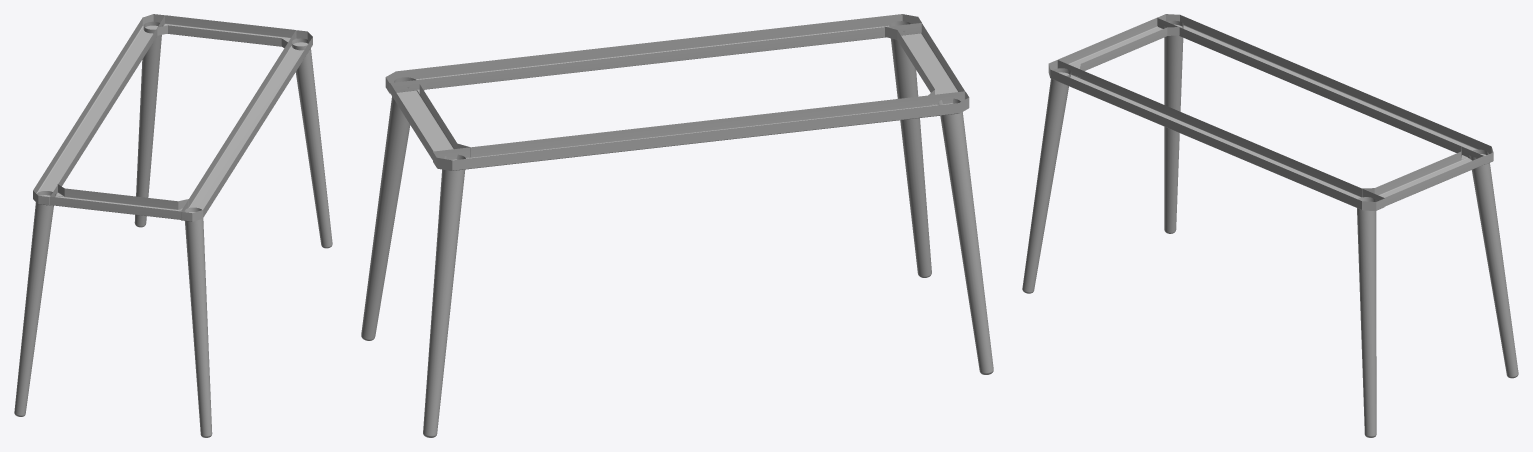
The model's file is diningtable_0103_leg.glb.
3 renders of one model, left to right at view 1: azimuth 30°, elevation 25°; view 2: azimuth 150°, elevation 25°; view 3: azimuth 270°, elevation 25°, orthographic. The views are drawn at different scales.
Visible parts, largest first — view 1: diningtable_0103_leg; view 2: diningtable_0103_leg; view 3: diningtable_0103_leg.
Part boxes in pixels (x1=…): diningtable_0103_leg: x1=14, y1=14, x2=332, y2=437; diningtable_0103_leg: x1=361, y1=14, x2=993, y2=437; diningtable_0103_leg: x1=1022, y1=14, x2=1518, y2=437.
Size of the model in its own units: 1.43 by 0.7197 by 1.43.
Materials: 1 (1 with a texture image).
